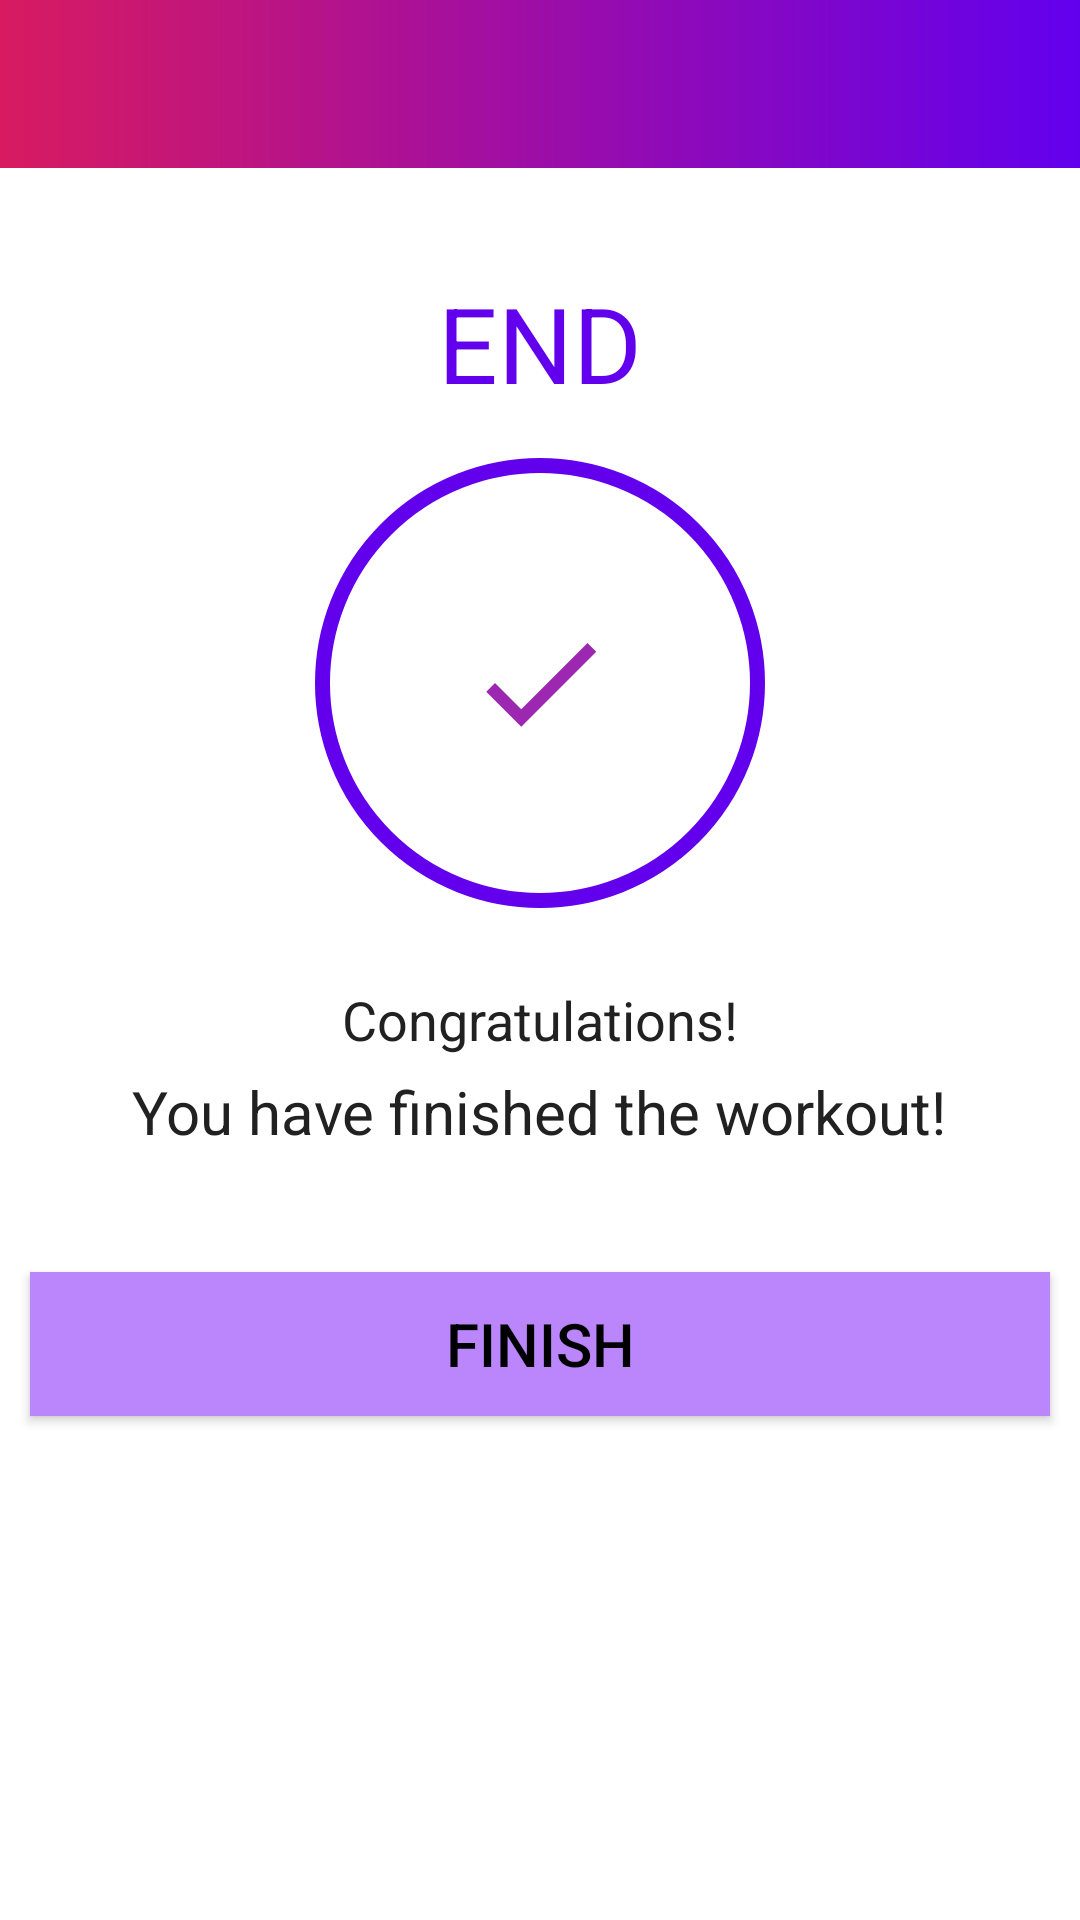

Named icons in this screenshot (1080*1920) and their centers, point (x, y):
done image: point (541, 685)
